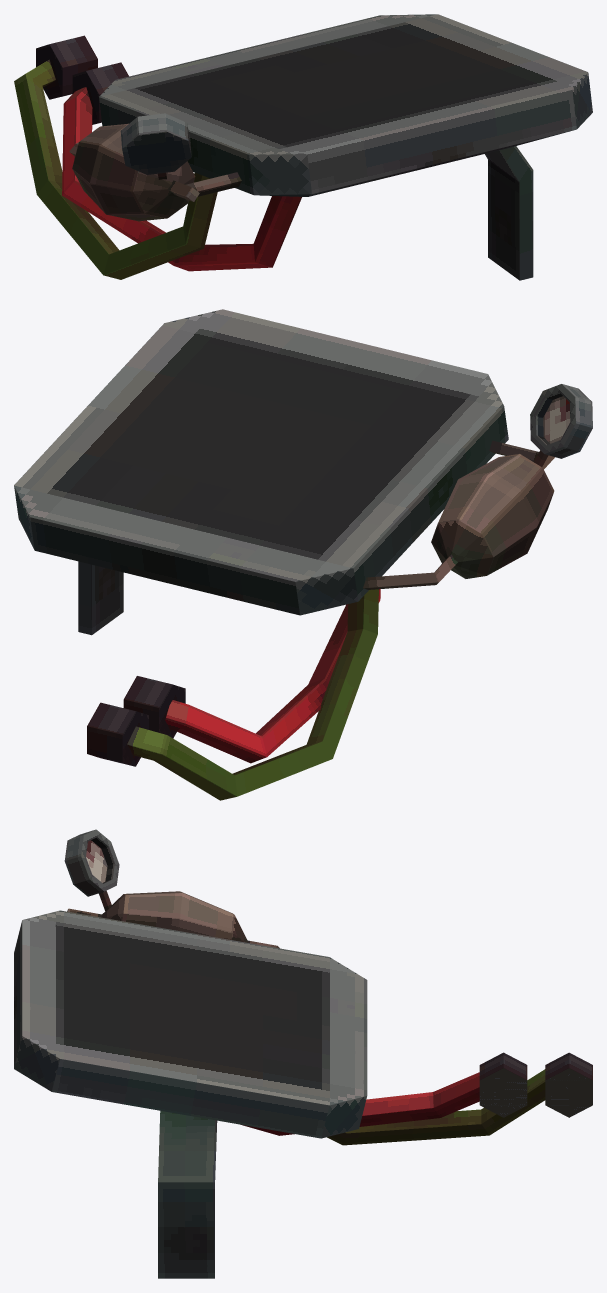
Rendered from item_special_fishing_rod_radar_part.glb.
3 renders of one model, top to bottom at view 1: azimuth 30°, elevation 25°; view 2: azimuth 150°, elevation 25°; view 3: azimuth 270°, elevation 25°, orthographic. The views are drawn at different scales.
Visible parts, largest first — view 1: Special_Radar; view 2: Special_Radar; view 3: Special_Radar.
Part boxes in pixels (x1,y1,x2,y2): Special_Radar: (14, 14, 592, 280); Special_Radar: (14, 309, 592, 800); Special_Radar: (14, 829, 592, 1278).
Bounding box in the file's own units: 0.1688 × 0.1071 × 0.2111.
Materials: 1 (1 with a texture image).
